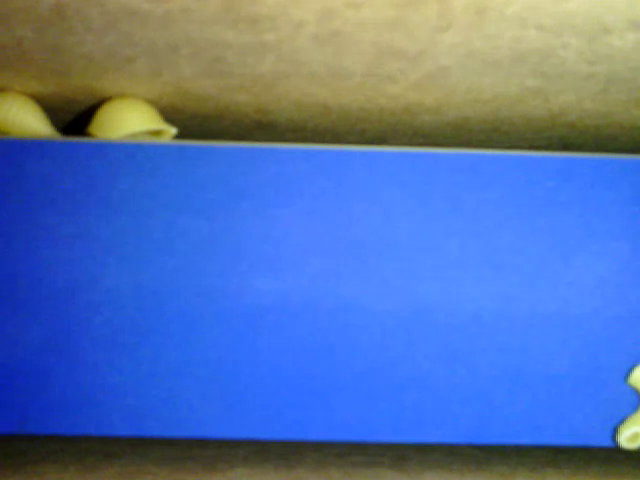elbow: (613, 363, 639, 452)
shell: (85, 93, 180, 140), (1, 93, 68, 139)
